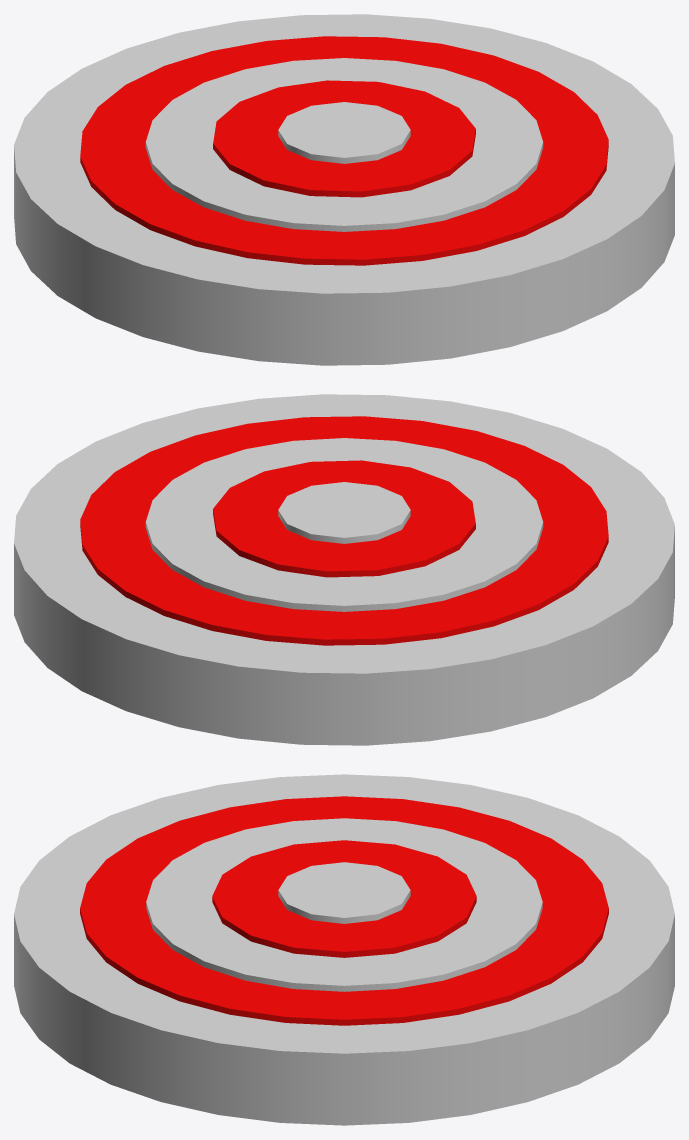
Rendered from Target 1.fbx.
3 views of the same model, one above another, from view 1: azimuth 30°, elevation 25°; view 2: azimuth 150°, elevation 25°; view 3: azimuth 270°, elevation 25° (orthographic).
Visible parts, largest first — view 1: Target; view 2: Target; view 3: Target.
Boxes of the visible parts, x1=… form: Target: x1=14, y1=14, x2=674, y2=365; Target: x1=14, y1=394, x2=674, y2=745; Target: x1=14, y1=774, x2=674, y2=1125.
Bounding box in the file's own units: 1 × 1 × 0.2.
